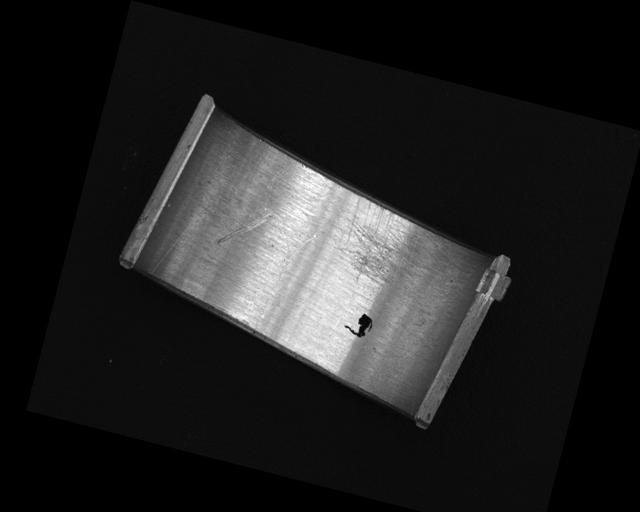blot: (341, 309, 375, 341)
nick: (252, 223, 319, 341), (148, 196, 208, 286), (215, 202, 271, 255), (259, 164, 286, 224)
scratch: (328, 195, 461, 302)
